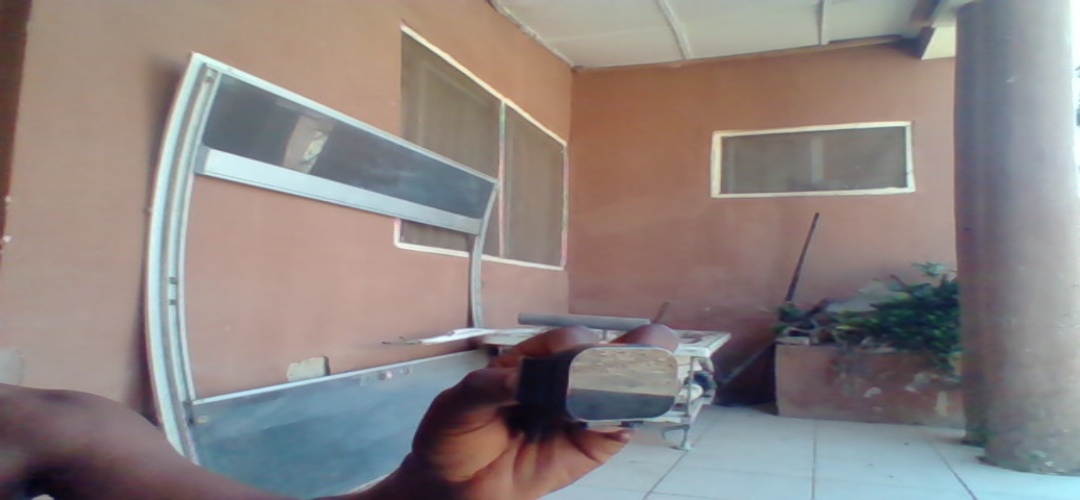smart_watch: (523, 341, 683, 425)
